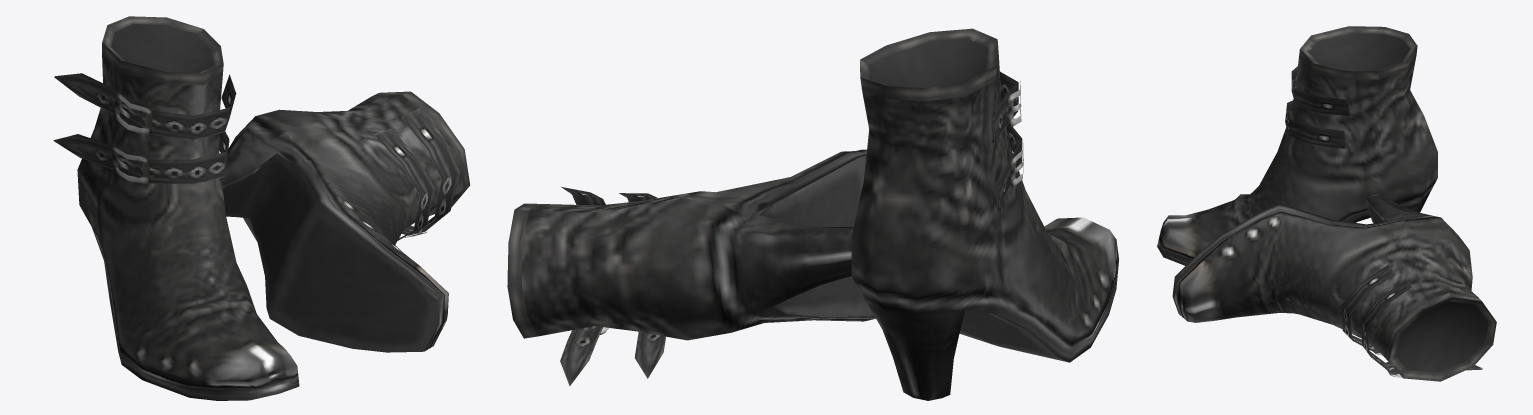
File: Squaretoe_Ankle_Ground.fbx
3 renders of one model, left to right at view 1: azimuth 30°, elevation 25°; view 2: azimuth 150°, elevation 25°; view 3: azimuth 270°, elevation 25°, orthographic. The views are drawn at different scales.
Visible parts, largest first — view 1: Squaretoe_Ankle; view 2: Squaretoe_Ankle; view 3: Squaretoe_Ankle.
Part boxes in pixels (x1,y1,x2,y2): Squaretoe_Ankle: (53,16,470,400); Squaretoe_Ankle: (507,28,1118,400); Squaretoe_Ankle: (1157,26,1496,381).
Size of the model in its own units: 0.1913 by 0.1372 by 0.1752.
